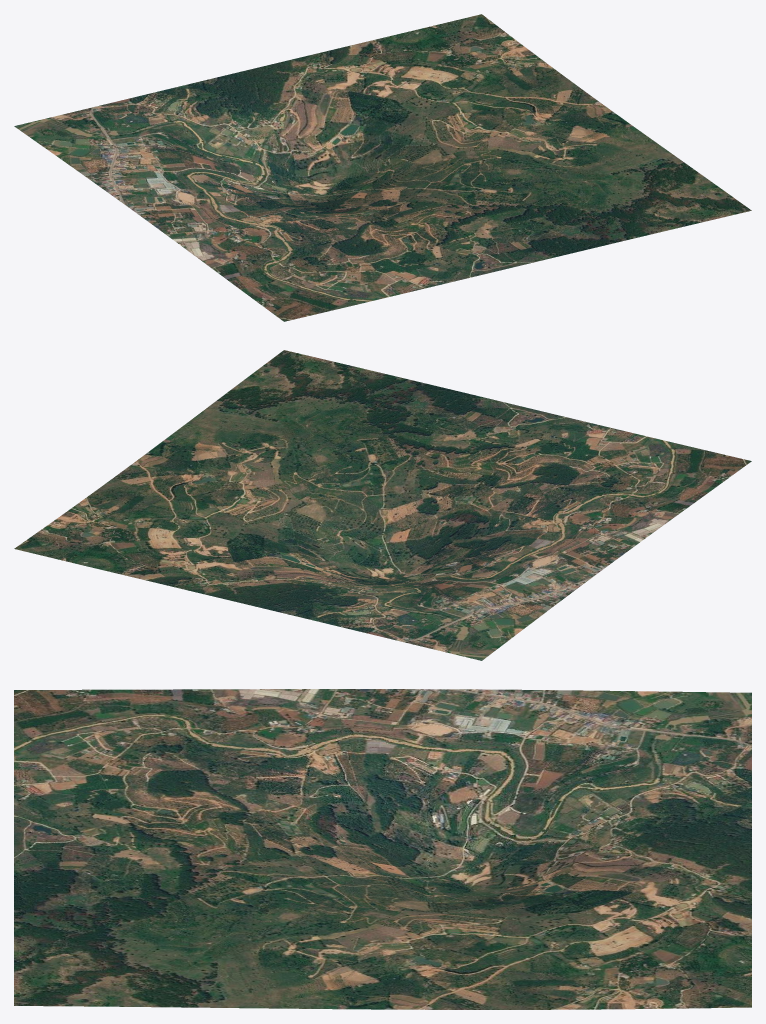
File: terrain_real_T_W05_S03.glb
The picture shows the model from 3 angles, top to bottom: view 1: azimuth 30°, elevation 25°; view 2: azimuth 150°, elevation 25°; view 3: azimuth 270°, elevation 25°; orthographic projection. The views are drawn at different scales.
Parts seen in each view (by area): view 1: Terrain_Real_DEM_T_W05_S03; view 2: Terrain_Real_DEM_T_W05_S03; view 3: Terrain_Real_DEM_T_W05_S03.
Part boxes in pixels (x1=…): Terrain_Real_DEM_T_W05_S03: x1=14, y1=14, x2=751, y2=321; Terrain_Real_DEM_T_W05_S03: x1=14, y1=350, x2=751, y2=660; Terrain_Real_DEM_T_W05_S03: x1=14, y1=689, x2=751, y2=1009.
Size of the model in its own units: 2000 by 162 by 2000.
Materials: 1 (1 with a texture image).
